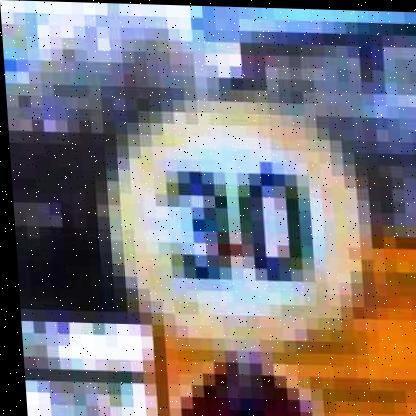Speed Limit -30-: (68, 54, 402, 403)
